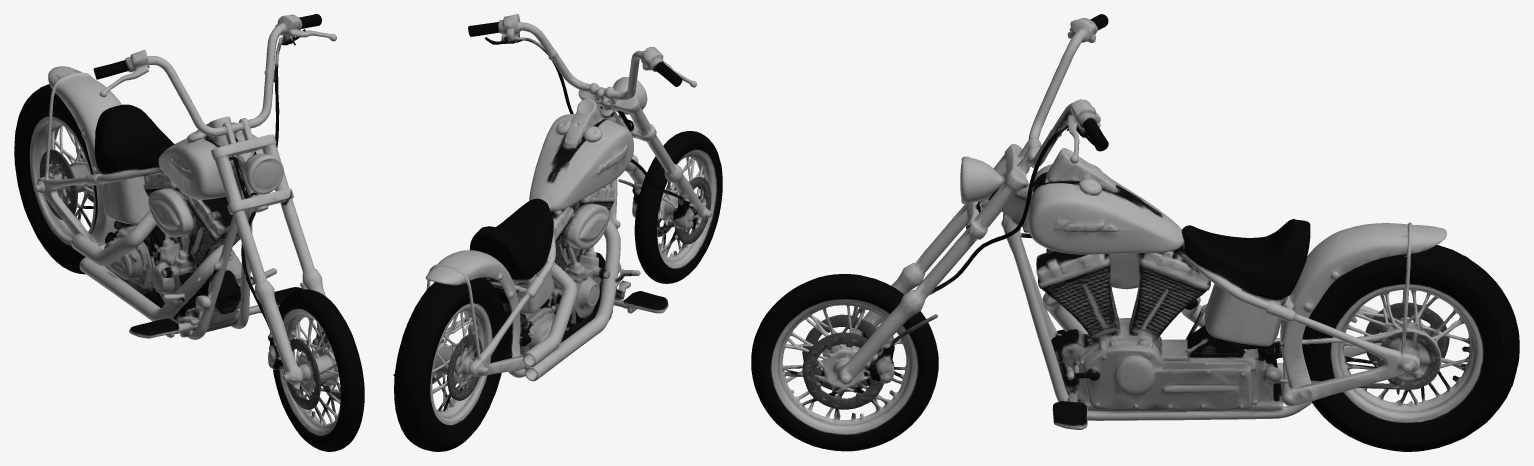
Rendered from 042_chopper_chrome.glb.
3 views of the same model, side by side, from view 1: azimuth 30°, elevation 25°; view 2: azimuth 150°, elevation 25°; view 3: azimuth 270°, elevation 25° (orthographic). The views are drawn at different scales.
Visible parts, largest first — view 1: geometry_0; view 2: geometry_0; view 3: geometry_0.
Part boxes in pixels (x1,y1,x2,y2): geometry_0: (14,14,364,451); geometry_0: (393,14,722,451); geometry_0: (751,14,1519,451).
Bounding box in the file's own units: 1.07 × 1.46 × 2.6.
Materials: 1 (1 with a texture image).
